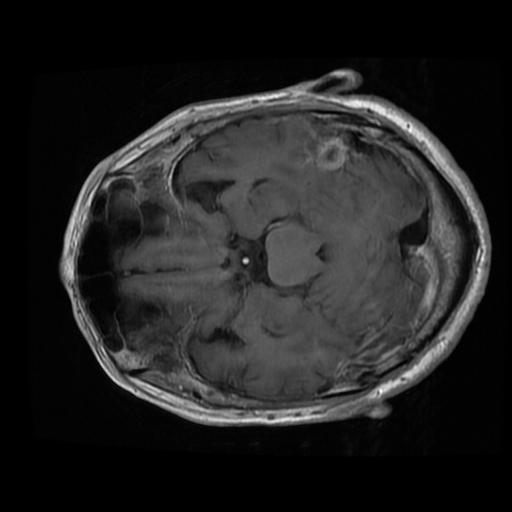glioma: (304, 132, 352, 173)
